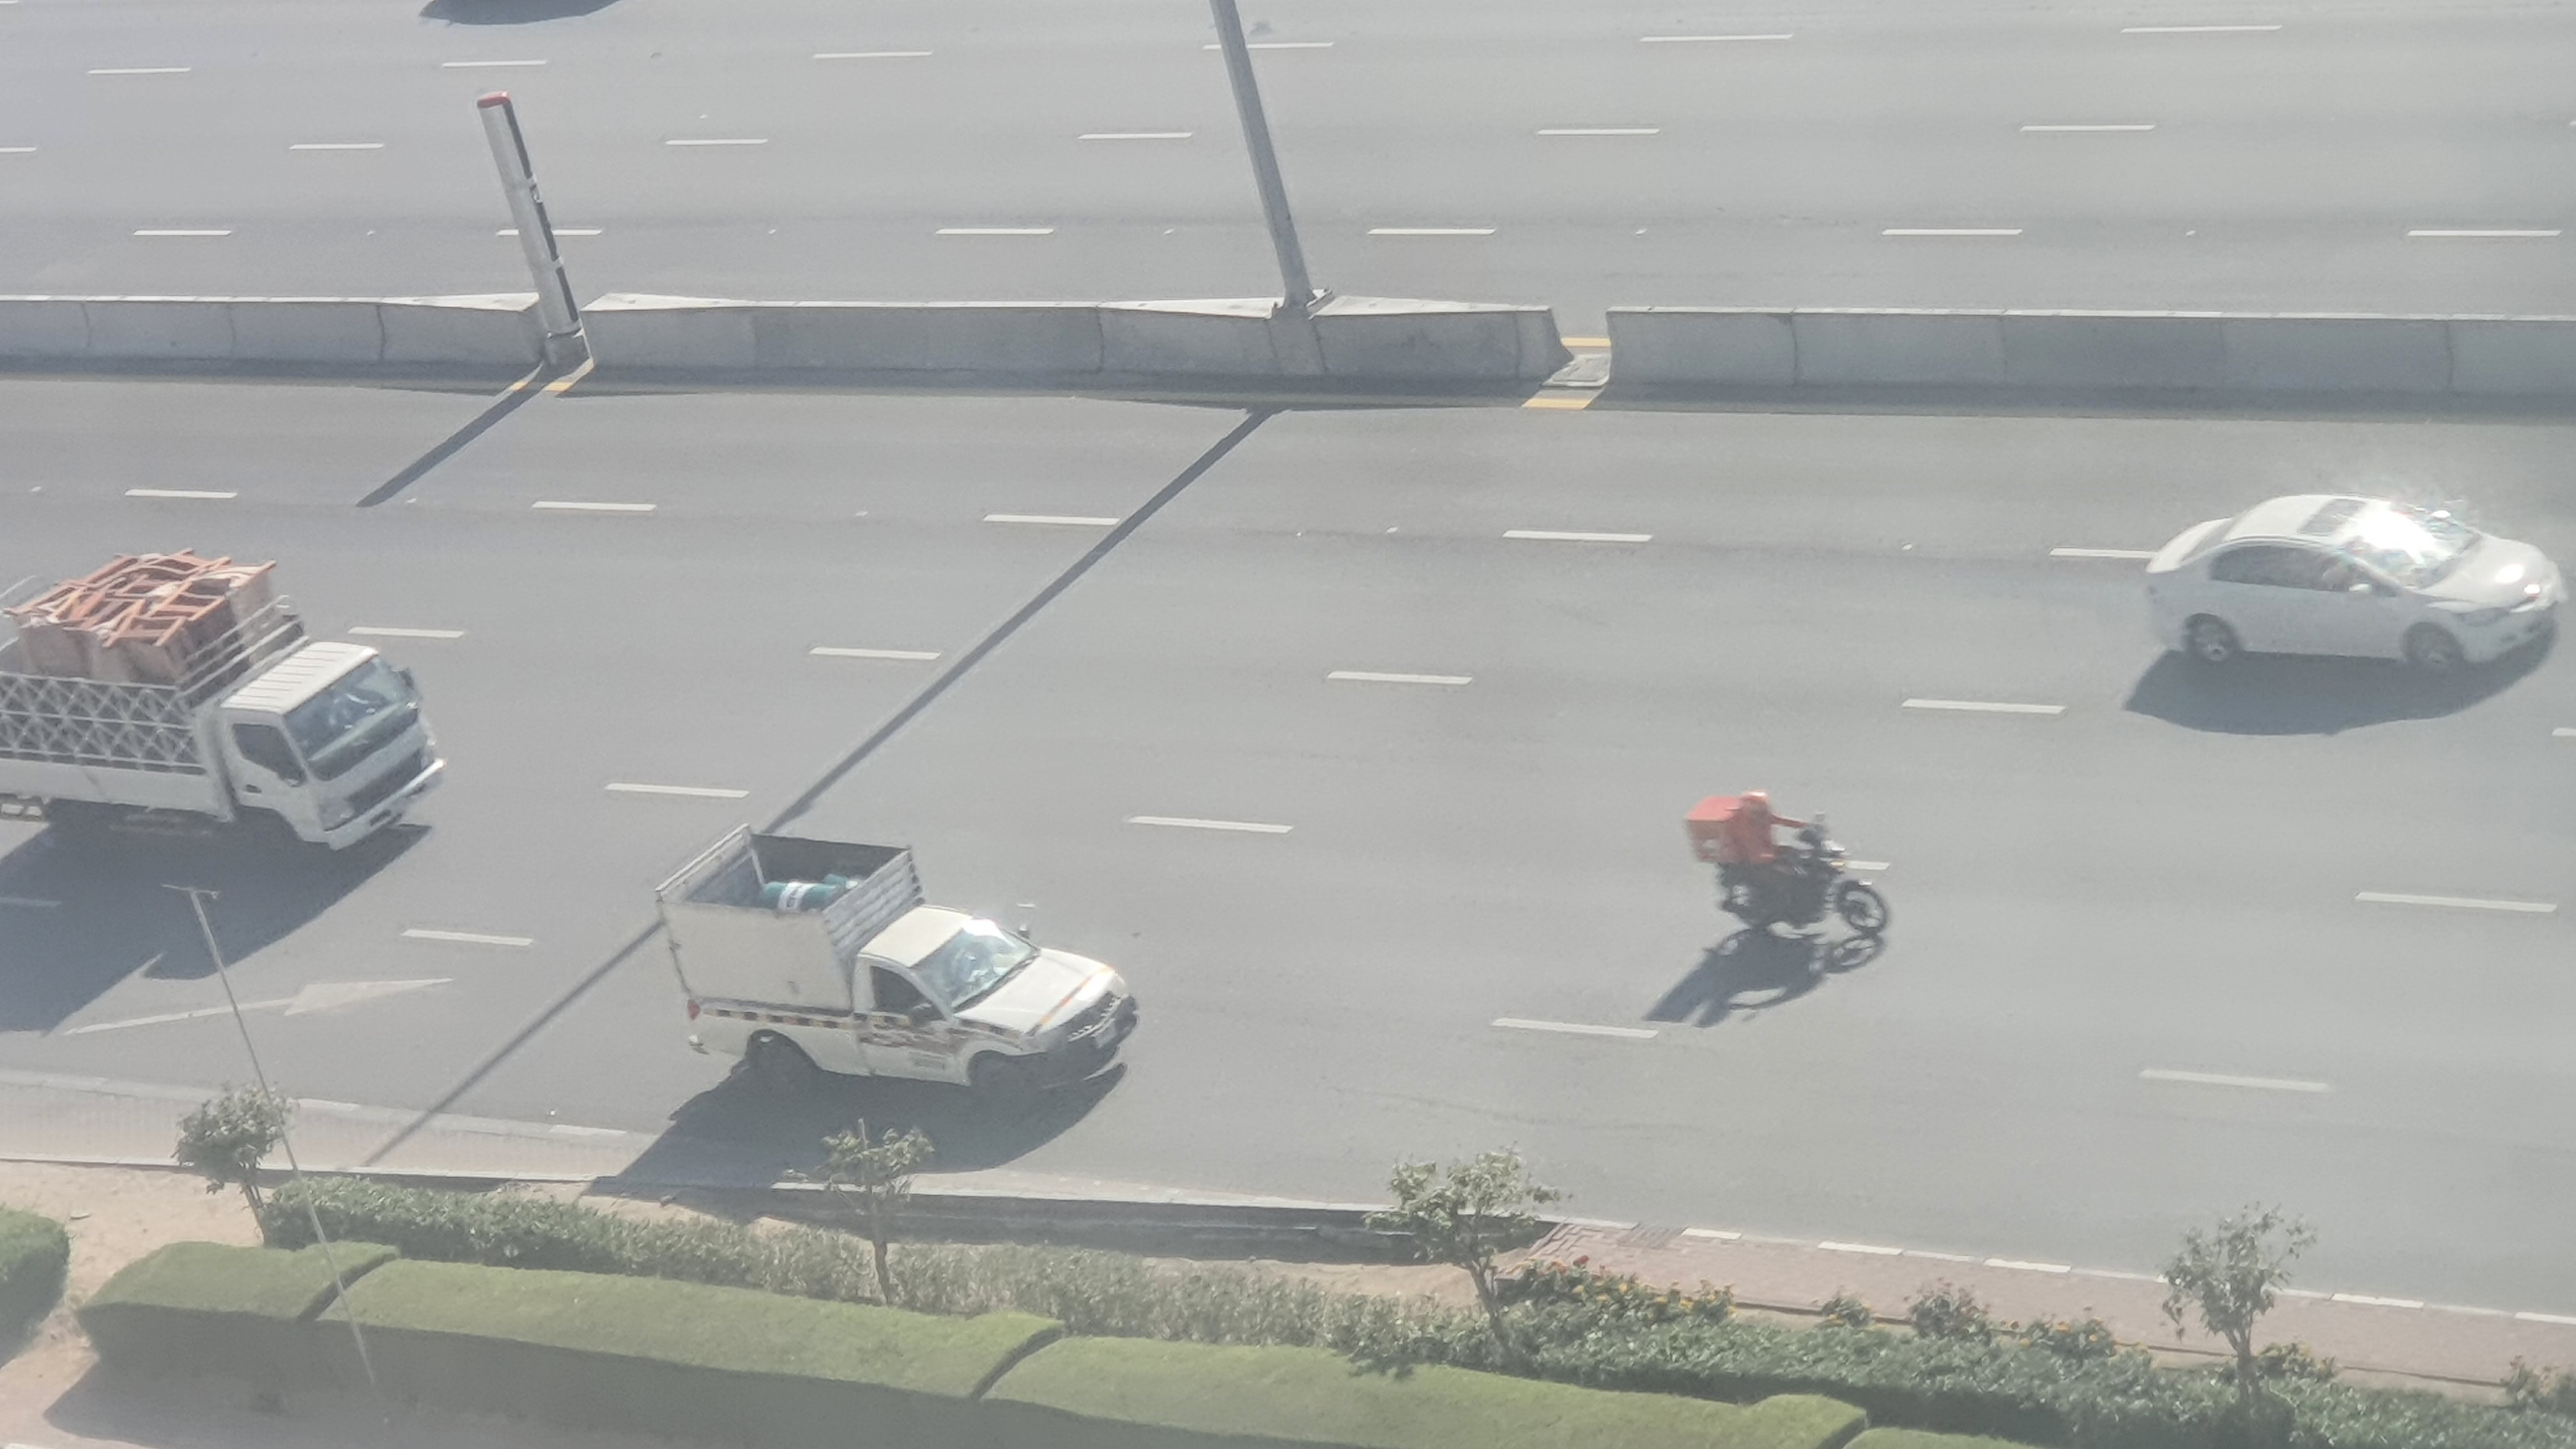Sunroof: (2143, 488, 2565, 694)
